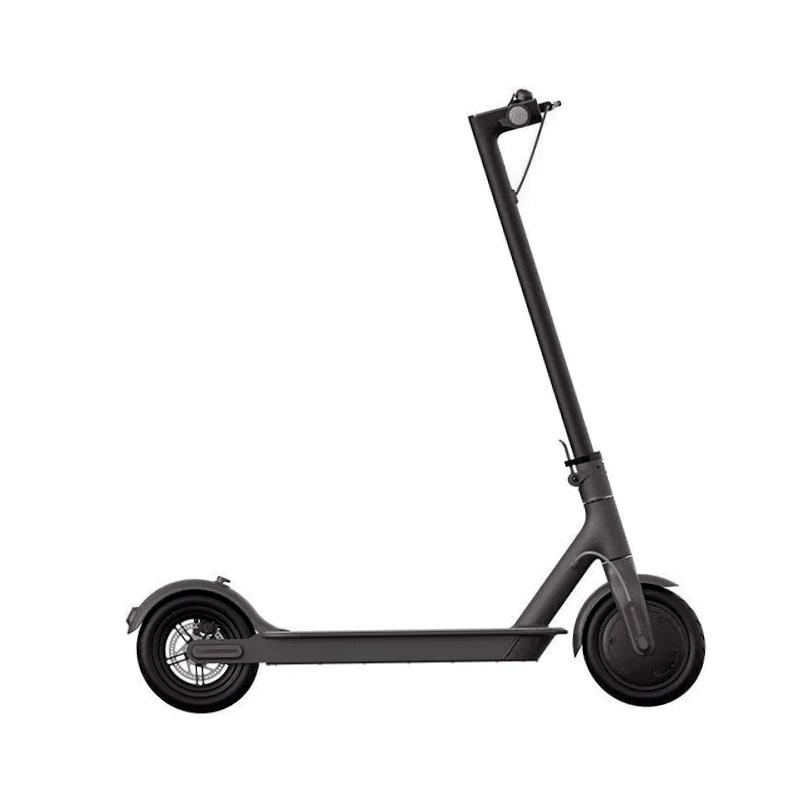scooter: (123, 84, 709, 714)
